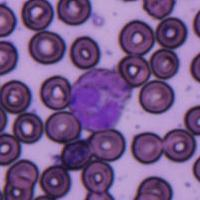E: (69, 66, 133, 132)
